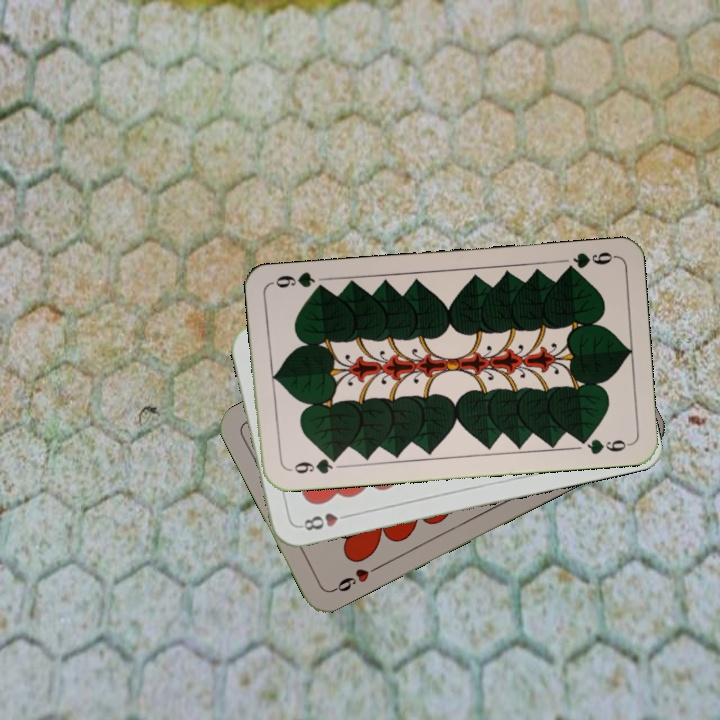G9: (559, 247, 618, 276), (283, 452, 342, 477)
H8: (295, 508, 354, 533)
H9: (328, 561, 383, 595)
